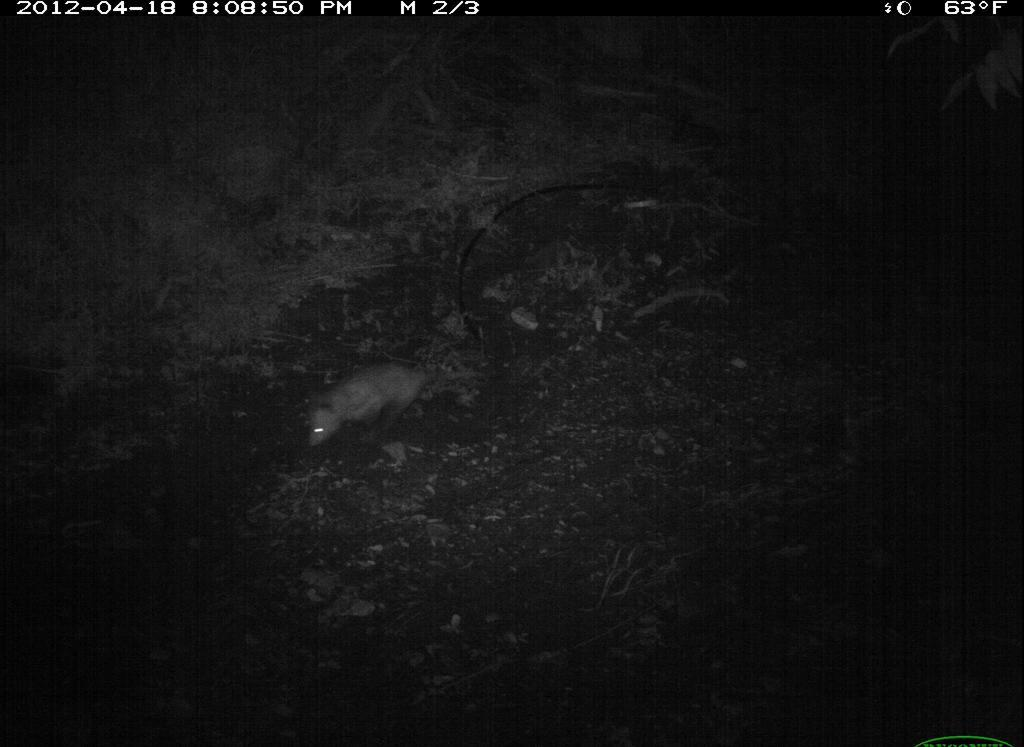opossum: (281, 347, 450, 455)
